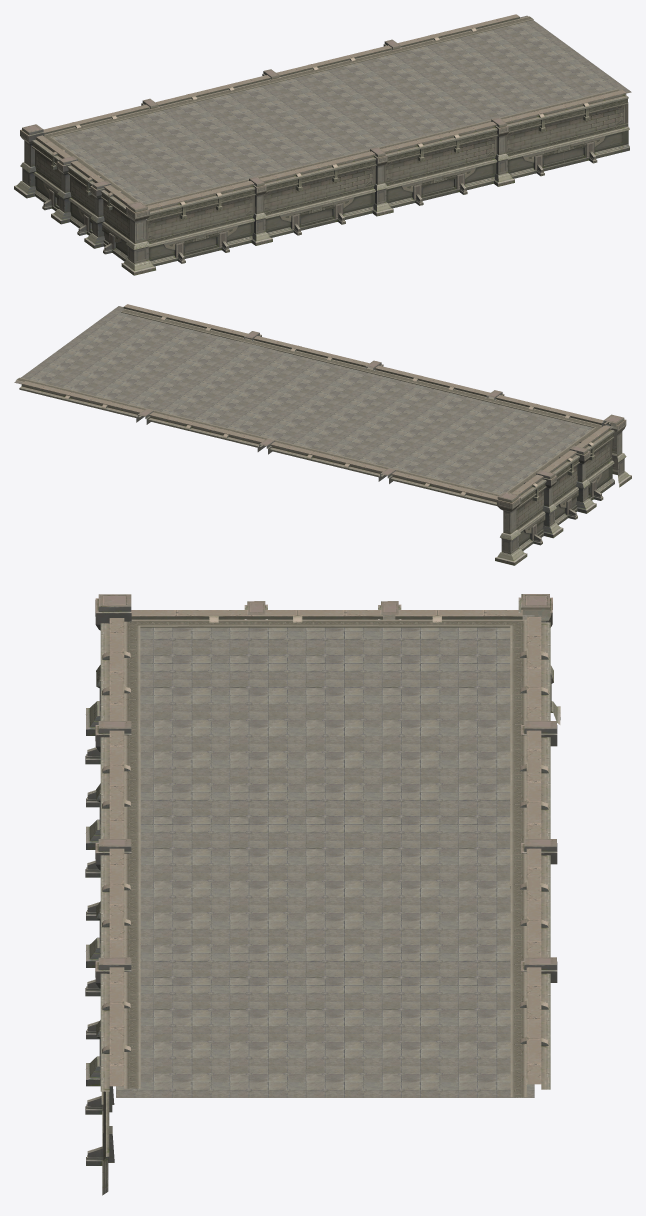
Rendered from WSD_Terrain_01.FBX.
3 views of the same model, one above another, from view 1: azimuth 30°, elevation 25°; view 2: azimuth 150°, elevation 25°; view 3: azimuth 270°, elevation 25° (orthographic). The views are drawn at different scales.
Parts seen in each view (by area): view 1: WSD_Terrain_01; view 2: WSD_Terrain_01; view 3: WSD_Terrain_01.
Part boxes in pixels (box(x1,y1,x2,y2)): WSD_Terrain_01: box(14, 14, 631, 275); WSD_Terrain_01: box(14, 304, 631, 565); WSD_Terrain_01: box(85, 594, 560, 1195).
Size of the model in its own units: 98.56 by 11.55 by 39.91.
